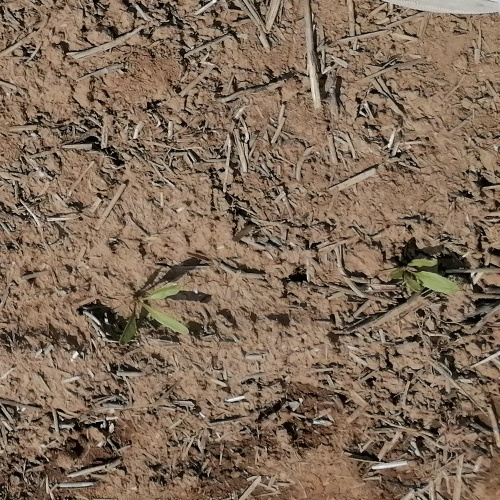beet: (120, 282, 190, 346), (389, 259, 460, 293)
